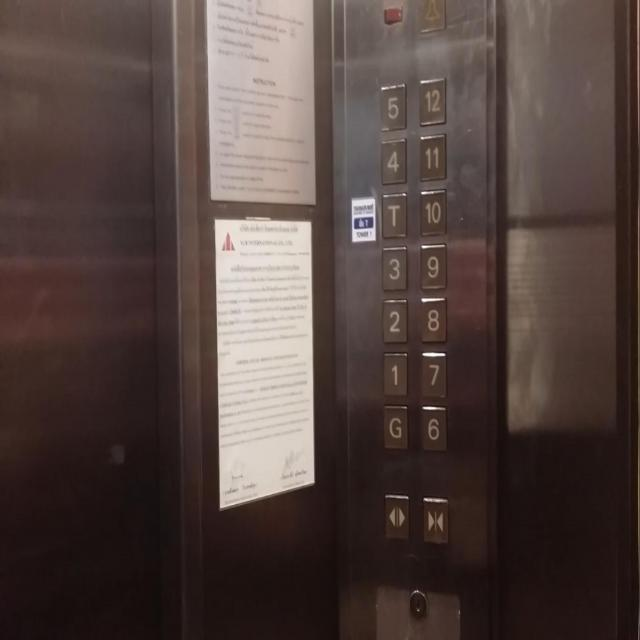1: (381, 348, 409, 399)
10: (417, 188, 448, 238)
11: (417, 132, 446, 184)
12: (416, 75, 446, 128)
2: (380, 296, 409, 345)
3: (380, 244, 408, 291)
4: (379, 136, 409, 186)
5: (379, 80, 407, 132)
6: (419, 402, 447, 456)
7: (418, 348, 448, 400)
8: (419, 293, 448, 345)
9: (418, 240, 448, 291)
G: (381, 402, 409, 451)
T: (380, 190, 409, 240)
alarm: (417, 0, 447, 36)
close: (421, 493, 448, 546)
keyhole: (407, 585, 430, 623)
open: (383, 491, 410, 542)
